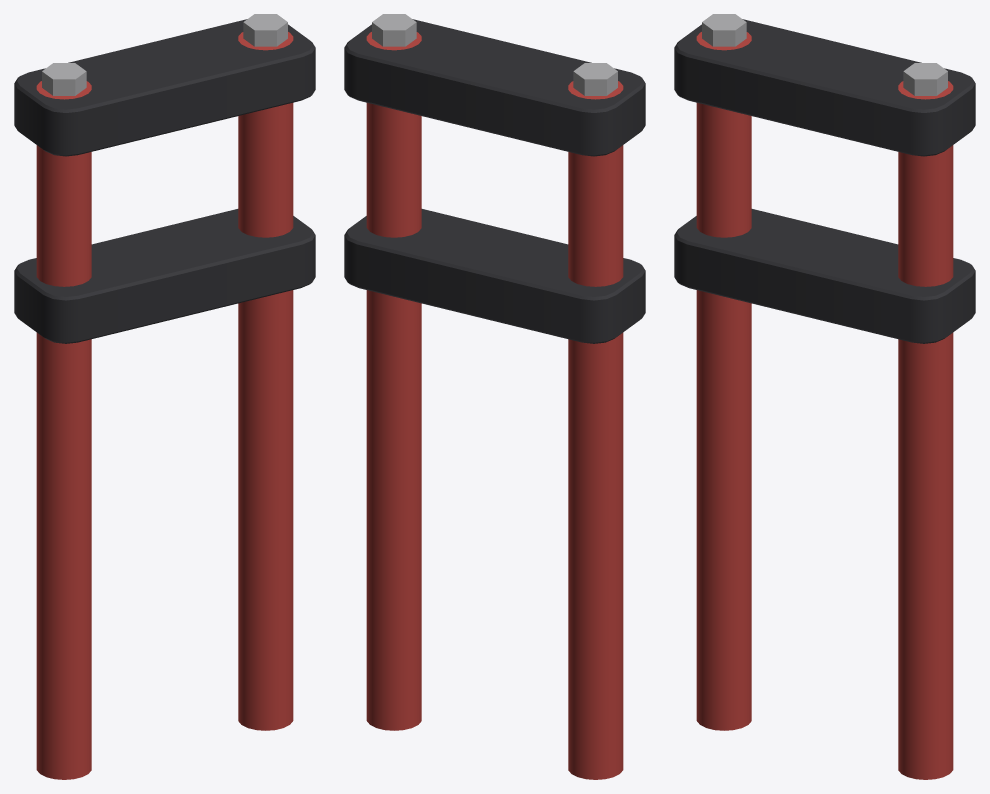
File: chopper_extended_tube_upper.glb
The picture shows the model from 3 angles, left to right: view 1: azimuth 30°, elevation 25°; view 2: azimuth 150°, elevation 25°; view 3: azimuth 330°, elevation 25°; orthographic projection.
Visible parts, largest first — view 1: lod0; view 2: lod0; view 3: lod0.
Part boxes in pixels (x1,y1,x2,y2): lod0: [14, 14, 315, 779]; lod0: [344, 14, 645, 779]; lod0: [674, 14, 975, 779].
Size of what is drawn, in the model's own units: 0.24 by 0.595 by 0.08.
